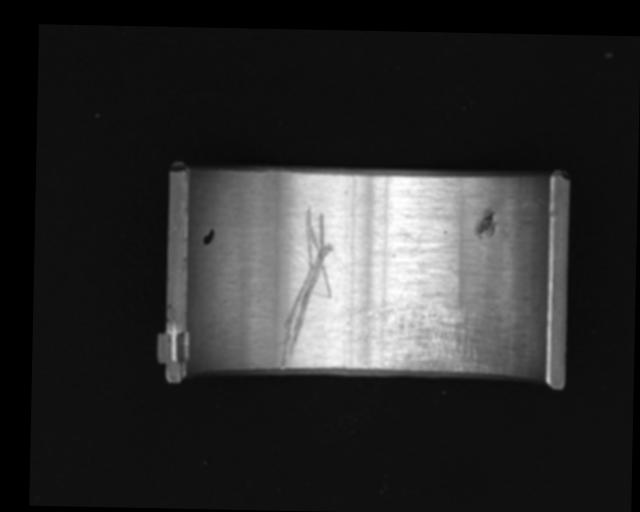blot: (201, 226, 216, 246)
bruise: (474, 207, 498, 240)
nick: (277, 206, 334, 371)
scratch: (347, 296, 488, 373)
